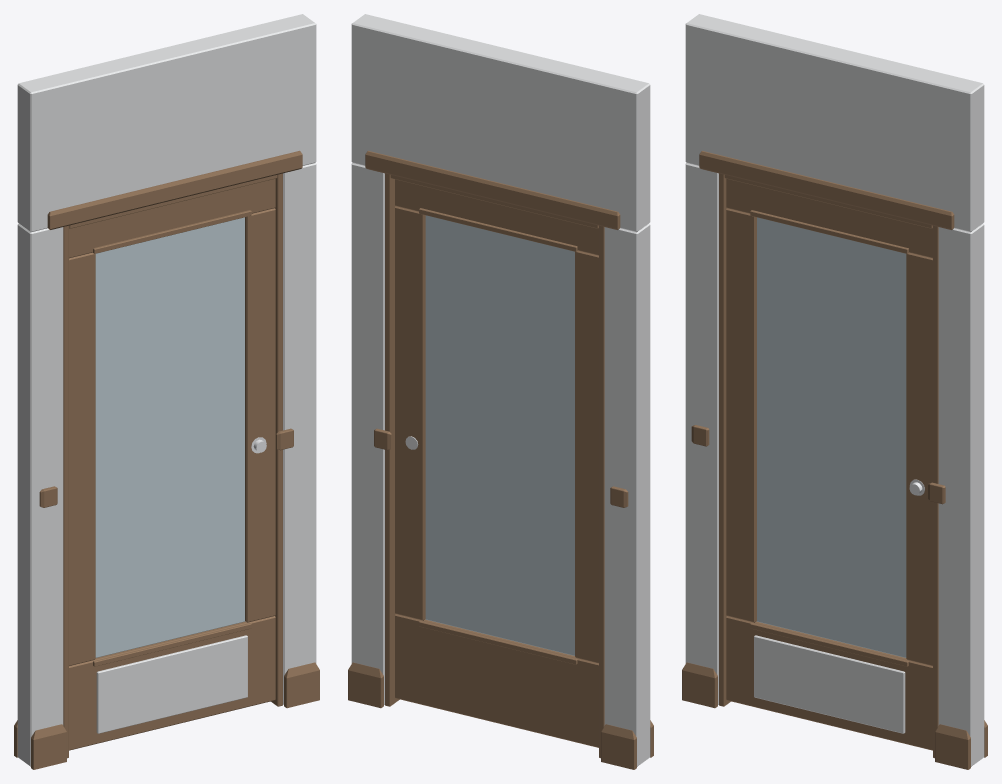
File: police-station-and-detective-office-noir-office-door-w-911a2219__29983.glb
3 views of the same model, side by side, from view 1: azimuth 30°, elevation 25°; view 2: azimuth 150°, elevation 25°; view 3: azimuth 330°, elevation 25° (orthographic).
Parts seen in each view (by area): view 1: noir-office-door-wall, noir-door/glass, noir-door/timber, noir-door/painted; view 2: noir-office-door-wall, noir-door/glass, noir-door/timber; view 3: noir-office-door-wall, noir-door/glass, noir-door/timber, noir-door/painted.
Part boxes in pixels (x1,y1,x2,y2): noir-office-door-wall: (14, 14, 319, 769); noir-door/glass: (95, 217, 245, 657); noir-door/timber: (69, 178, 275, 750); noir-door/painted: (96, 635, 247, 733); noir-office-door-wall: (348, 14, 653, 769); noir-door/glass: (425, 215, 574, 655); noir-door/timber: (395, 179, 598, 747); noir-office-door-wall: (682, 14, 987, 769); noir-door/glass: (756, 217, 906, 657); noir-door/timber: (726, 178, 932, 750); noir-door/painted: (754, 635, 905, 733).
Size of the model in its own units: 1.2 by 2.7 by 0.1441.
